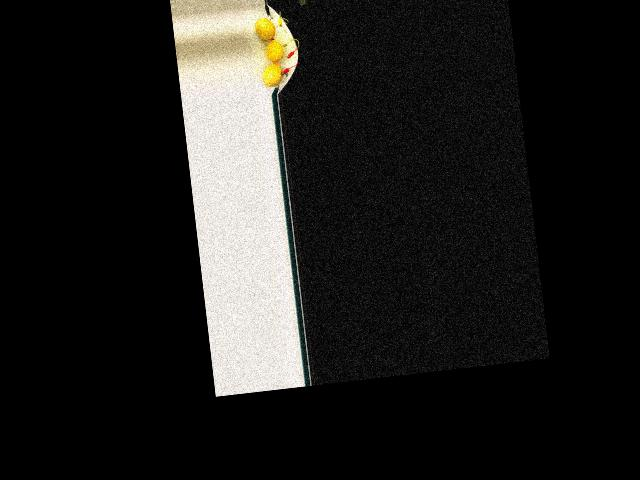lemon: (263, 62, 287, 87)
